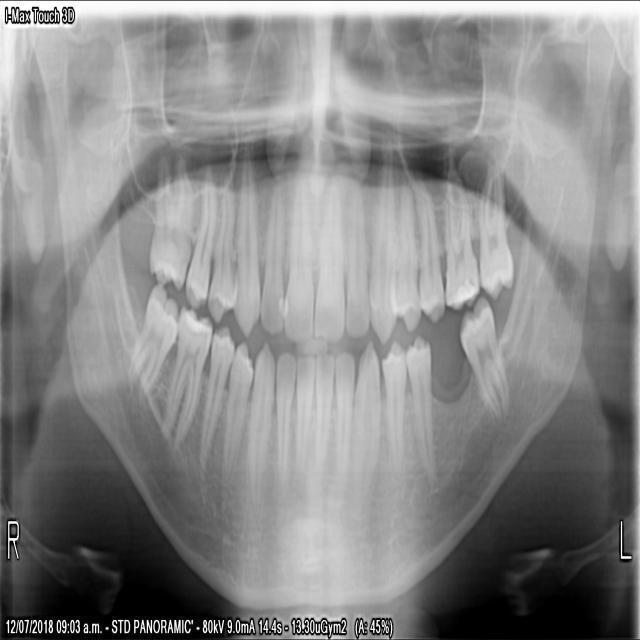LCD: (350, 340, 381, 493)
LCU: (370, 179, 399, 343)
LID: (331, 351, 355, 494), (310, 347, 333, 490)
LIU: (314, 171, 345, 343), (345, 171, 371, 338)
LMD: (455, 297, 514, 427)
LMU: (443, 182, 481, 318), (478, 169, 514, 301)
LPMD: (407, 332, 437, 496), (381, 340, 407, 477)
LPMU: (414, 176, 444, 329), (397, 177, 420, 332)
RCD: (248, 341, 277, 496)
RCU: (231, 158, 261, 341)
RIU: (284, 180, 315, 344), (260, 171, 286, 335)
RMD: (164, 305, 211, 454), (125, 288, 181, 396), (273, 349, 297, 482), (294, 349, 315, 485)
RMU: (162, 166, 195, 293), (147, 160, 172, 282)
RPMD: (198, 324, 233, 472), (219, 343, 254, 491)
RPMU: (183, 179, 218, 310), (207, 180, 234, 326)
